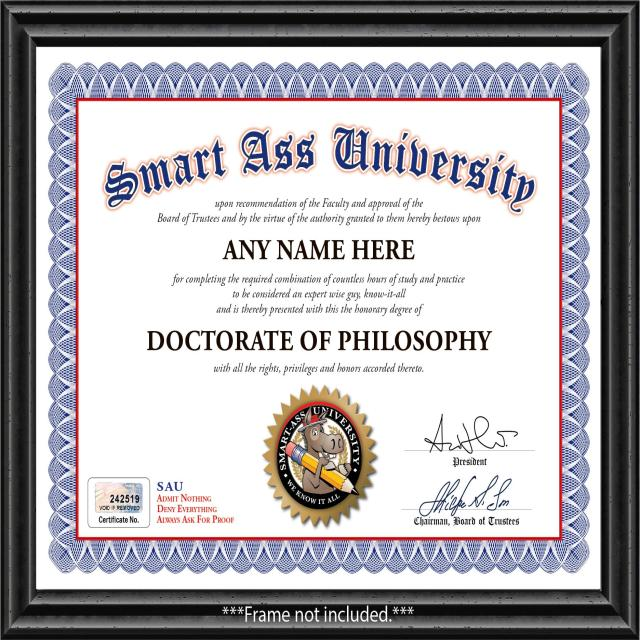stamp: (256, 385, 376, 524), (425, 421, 528, 527)
